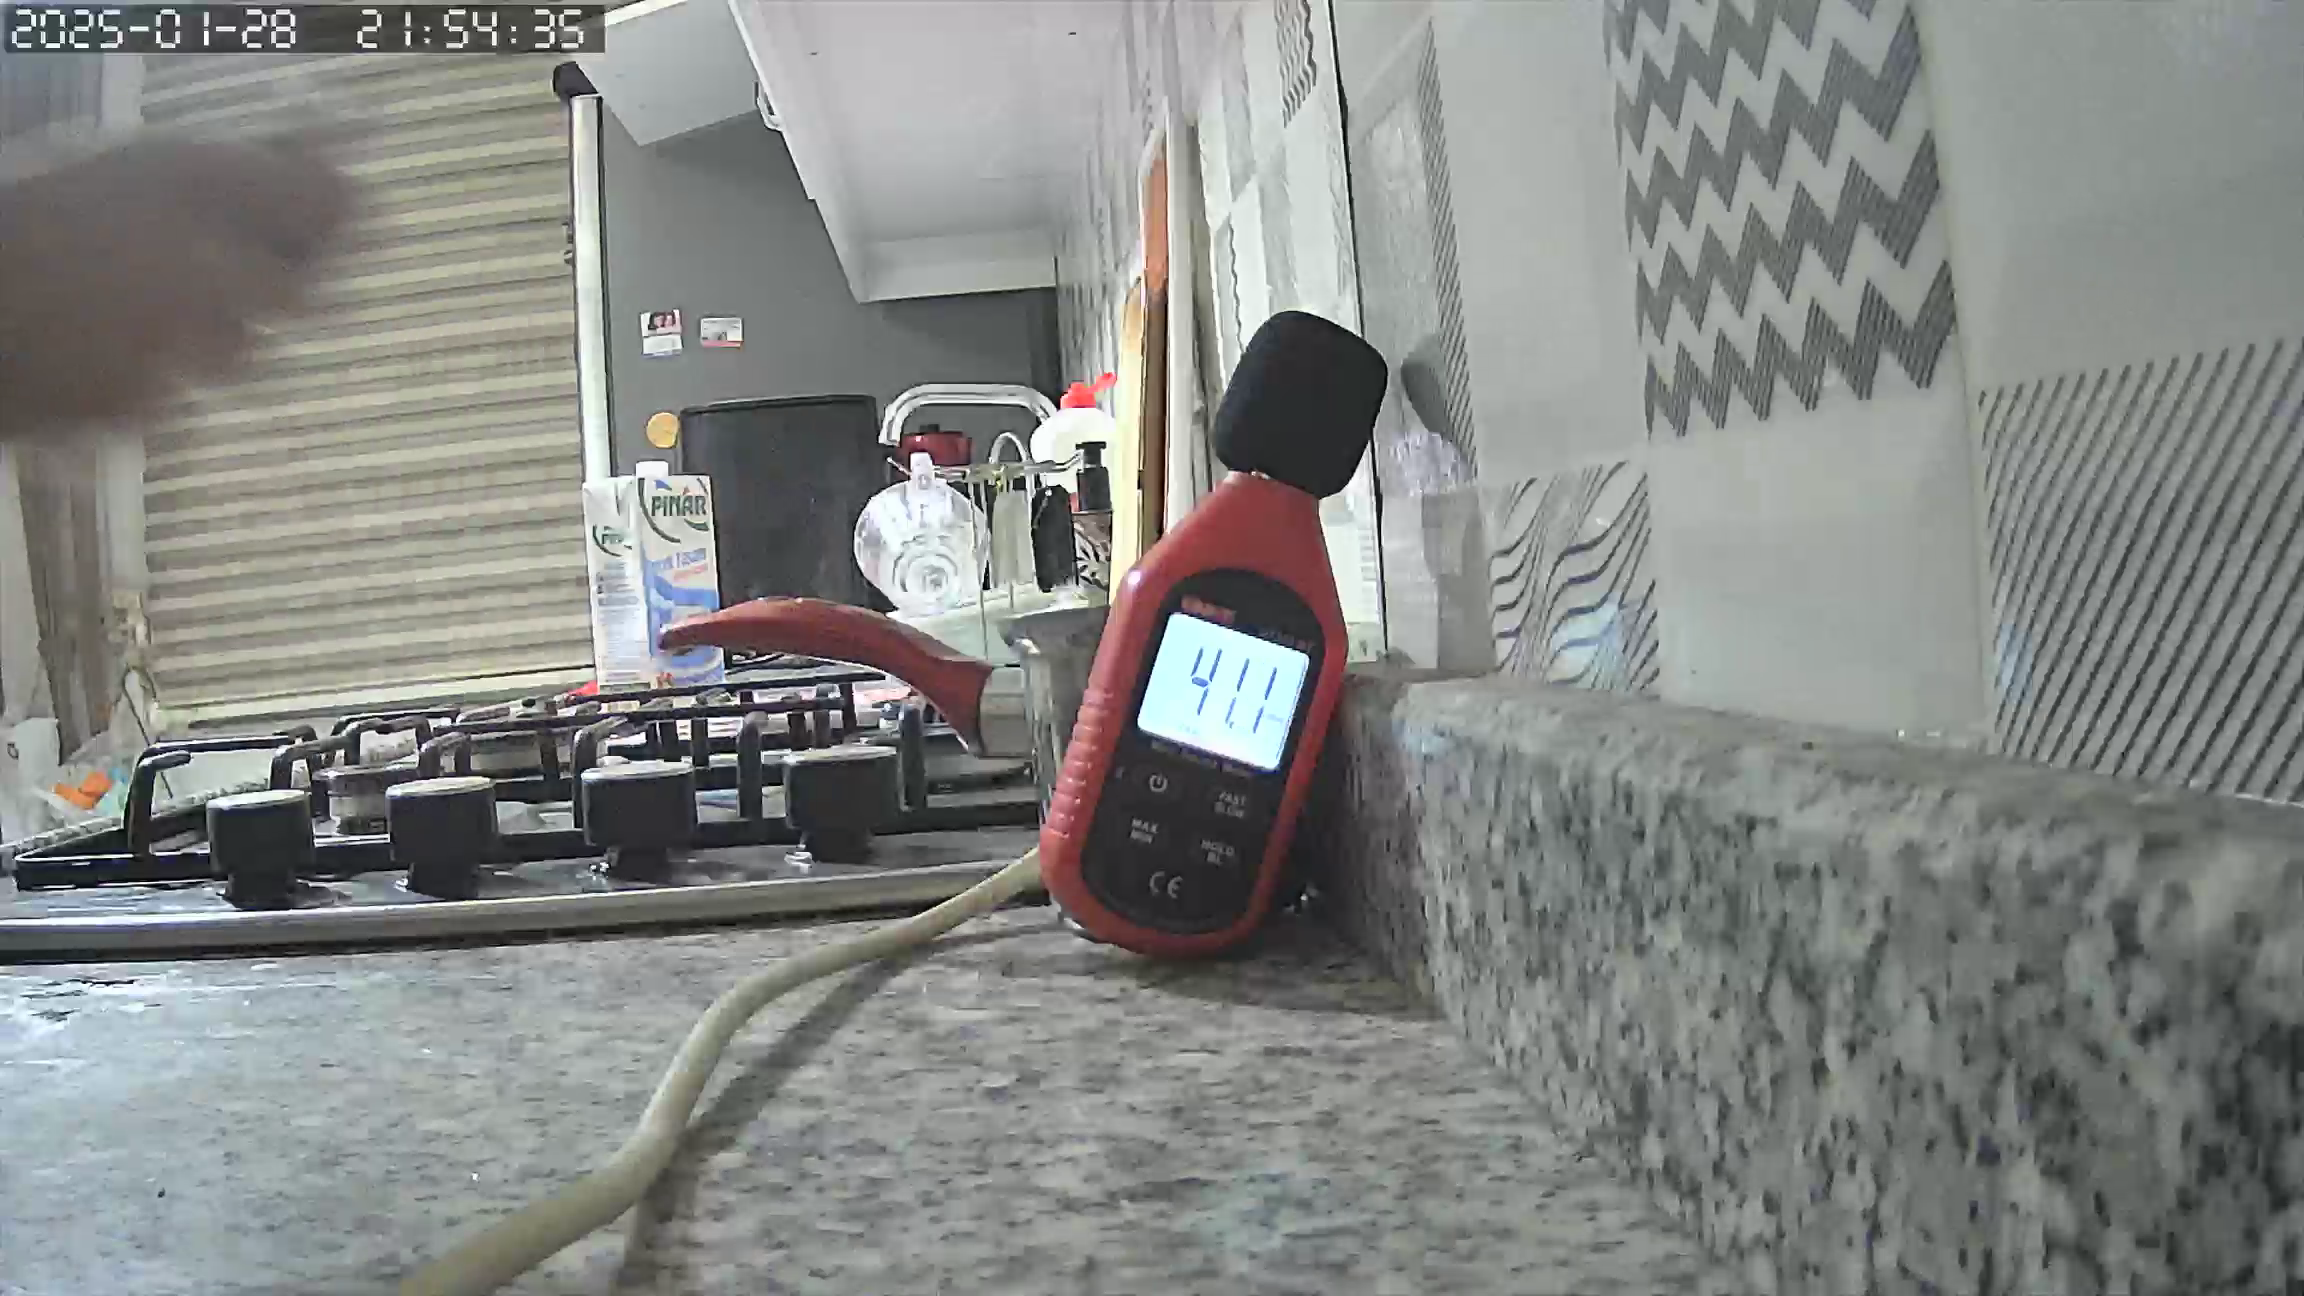screen: (1138, 611, 1312, 772)
